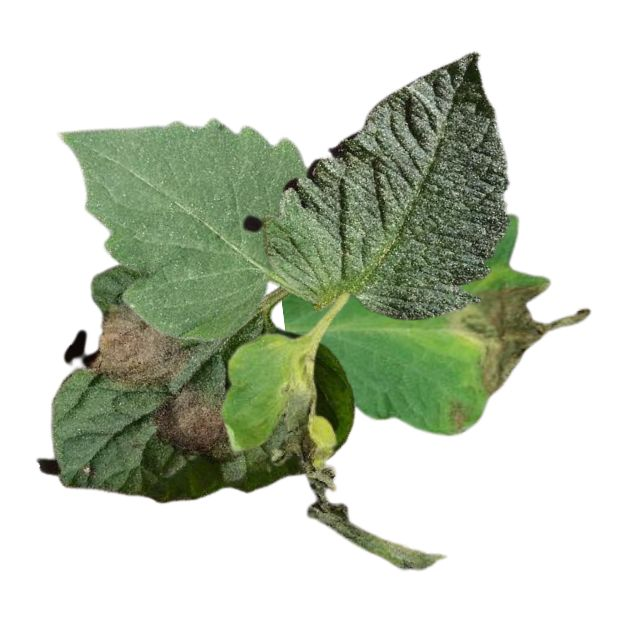Late_blight: (264, 364, 446, 570), (455, 281, 591, 397), (84, 296, 193, 387), (145, 383, 238, 463), (445, 398, 473, 434)
